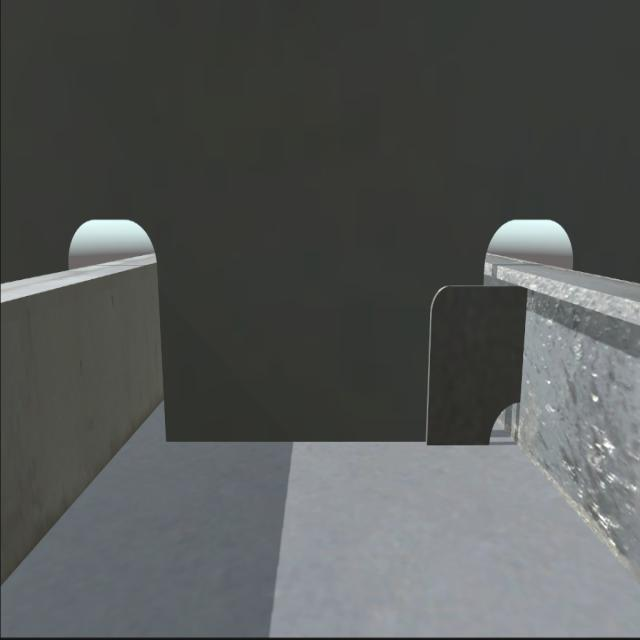fillet_hole: (488, 398, 528, 457)
fillet_yong_jeop_jang: (165, 431, 491, 452)
longi_yong_jeop_jang: (517, 278, 530, 408)
plate_CP05: (421, 282, 527, 442)
